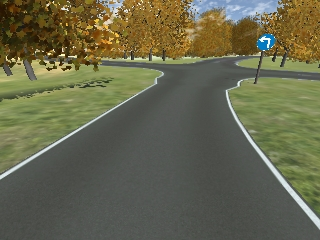left: (257, 34, 276, 51)
